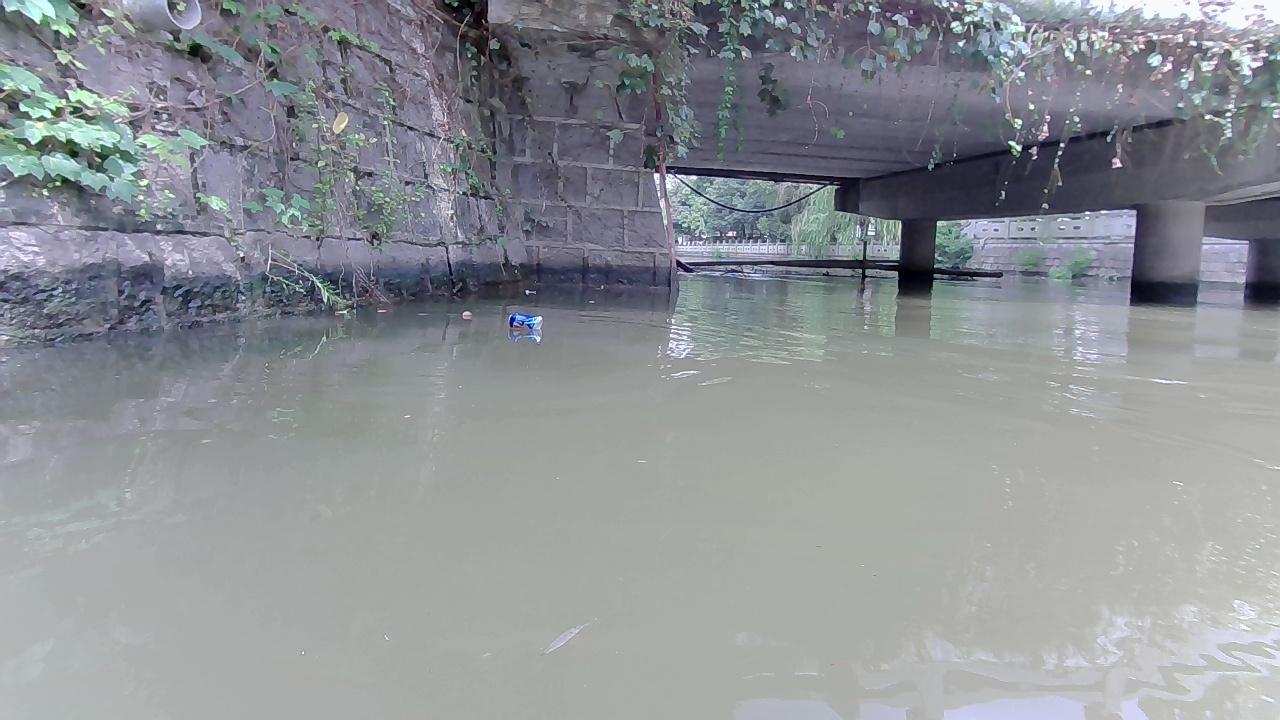bottle: (506, 312, 542, 328)
